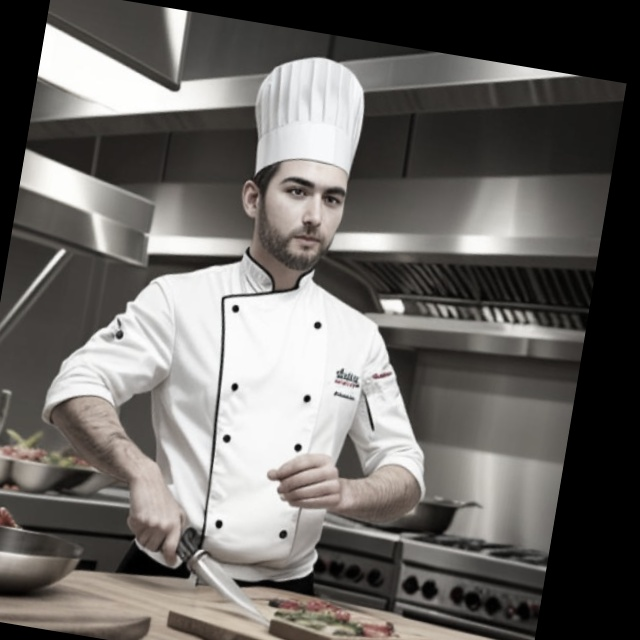Sharp-Object: (150, 512, 287, 633)
